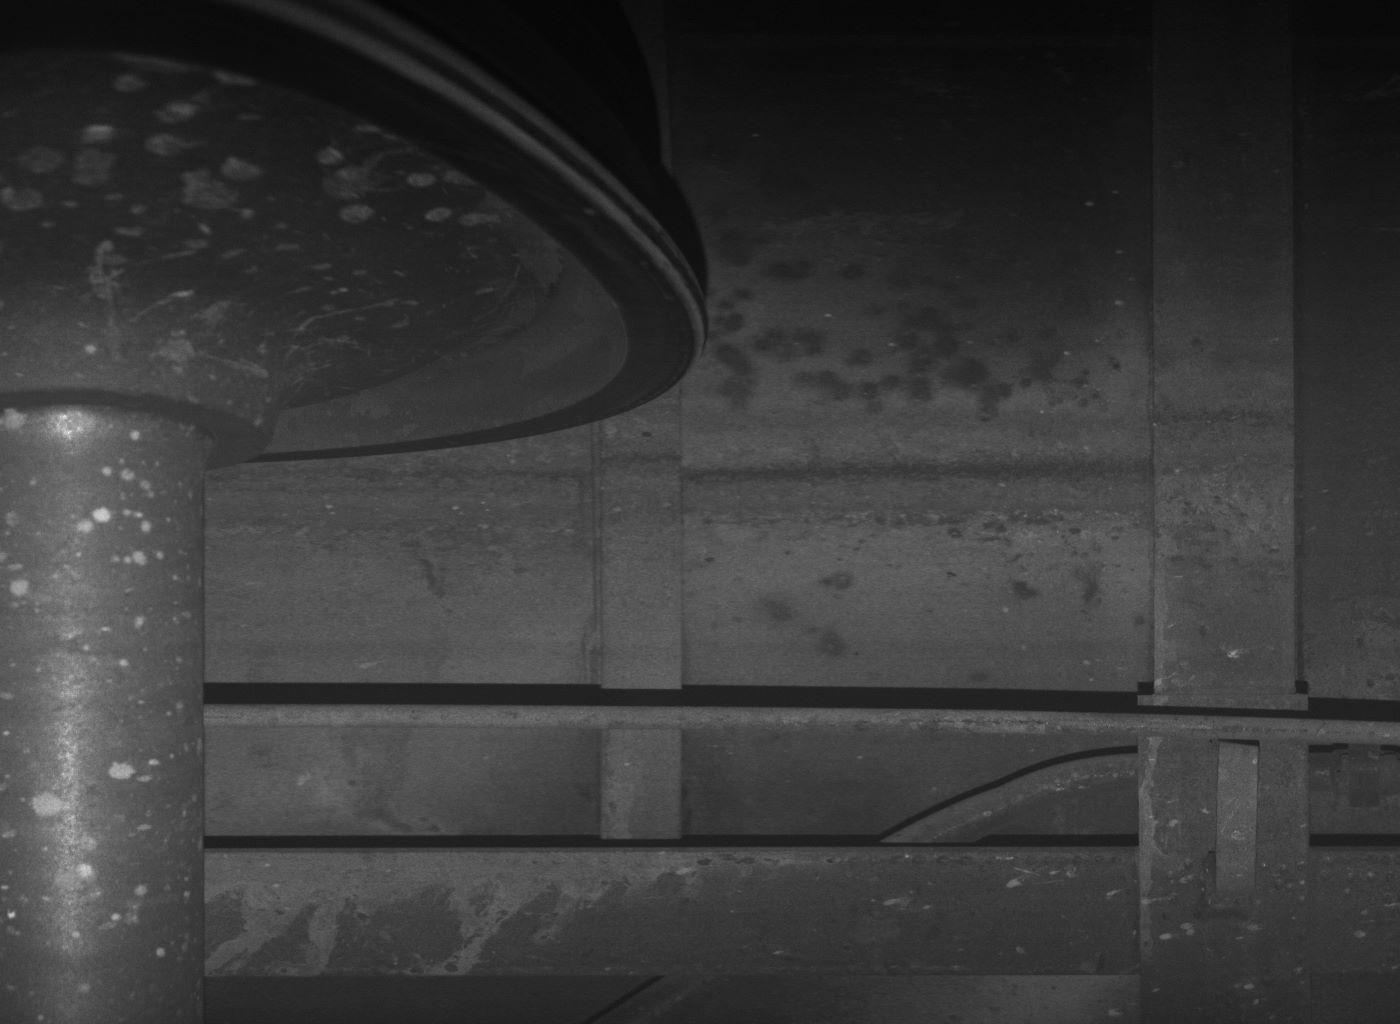upper lever: (1207, 690, 1265, 915)
